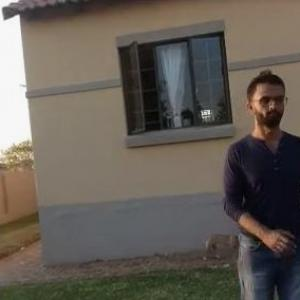follow: (217, 60, 300, 299)
null: (197, 228, 242, 263)
